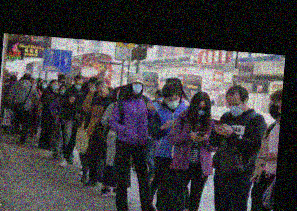with_mask: (225, 100, 244, 117), (268, 98, 281, 120), (165, 95, 179, 109), (194, 104, 207, 118), (131, 82, 143, 95), (73, 82, 82, 90), (50, 82, 58, 91), (58, 87, 65, 95), (40, 82, 47, 90), (29, 81, 37, 88)
without_mask: (95, 88, 106, 98)
